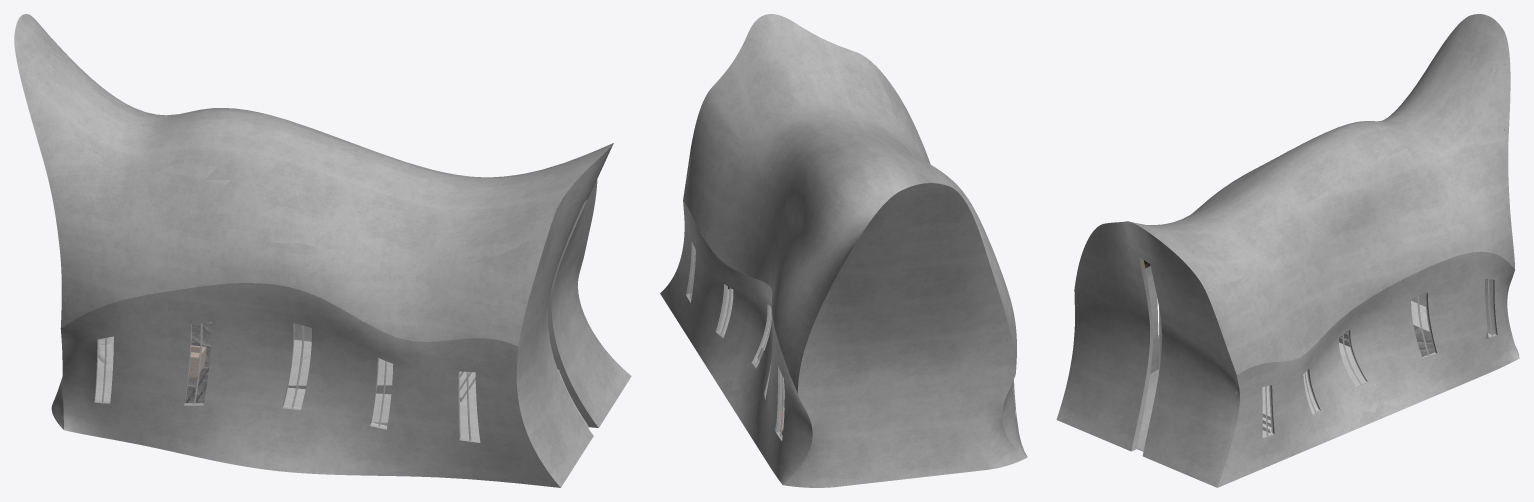
3 views of the same model, side by side, from view 1: azimuth 30°, elevation 25°; view 2: azimuth 150°, elevation 25°; view 3: azimuth 270°, elevation 25° (orthographic). The views are drawn at different scales.
Visible parts, largest first — view 1: FUPXIXT -Master 1; view 2: FUPXIXT -Master 1; view 3: FUPXIXT -Master 1.
Boxes of the visible parts, x1,y1,x2,y2 form: FUPXIXT -Master 1: (14,14,631,487); FUPXIXT -Master 1: (660,14,1027,487); FUPXIXT -Master 1: (1056,14,1519,487).
Size of the model in its own units: 29.04 by 20 by 28.98.
11 materials, 8 textured.
